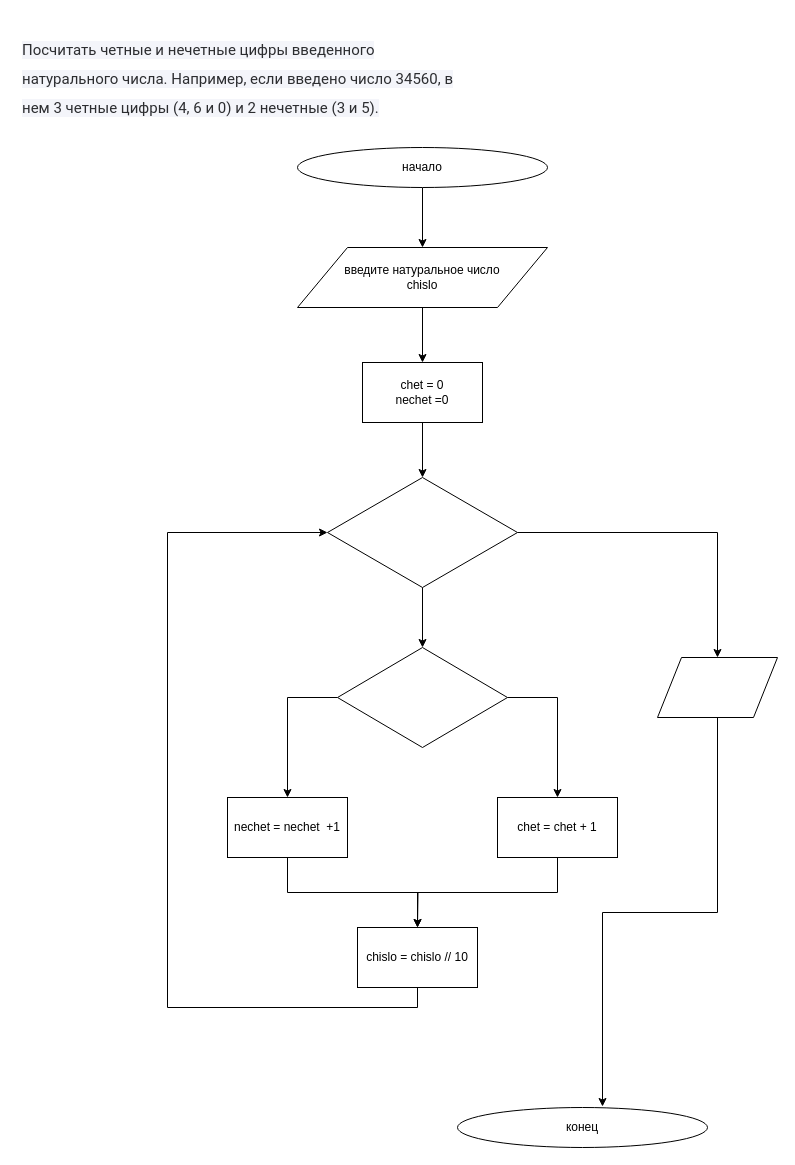
This 795x1165 diagram has some shape labels left out. Here are the shapes that lost their labels. From the top down, the centre of each, then its label:
pixel 422 532: пока chislo > 0
pixel 422 697: chislo % 2 = 0
pixel 717 687: вывод chet nechet
